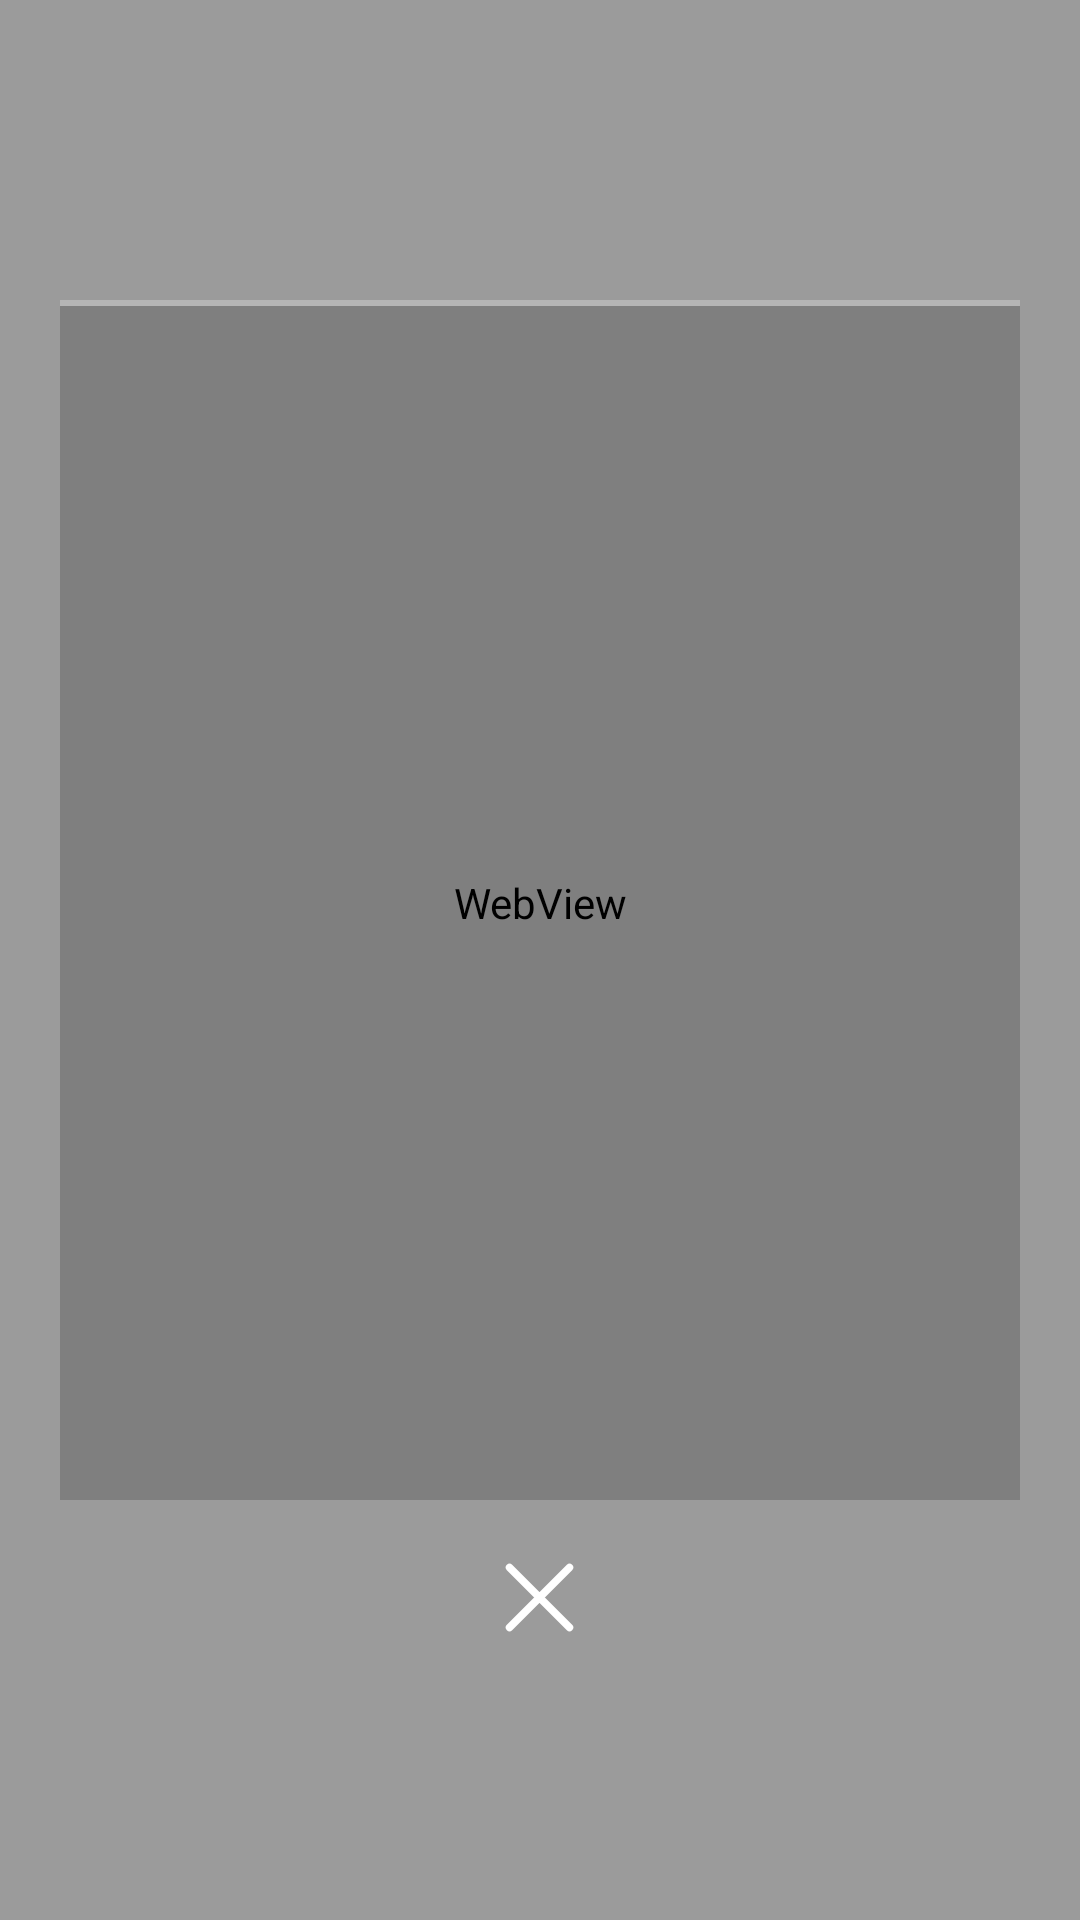

Point at icon controls on the screen. Image size 1080 x 1920, points as (x=x, y=y).
activity dialog close: (x=539, y=1597)
